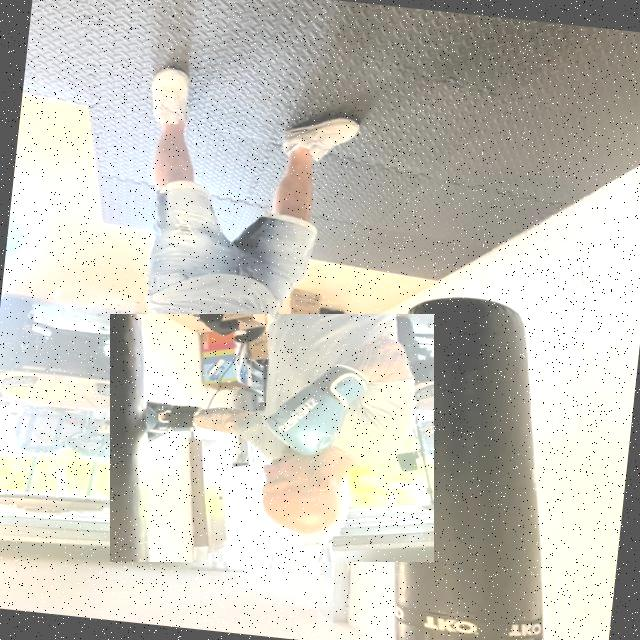punch: (110, 314, 434, 562)
